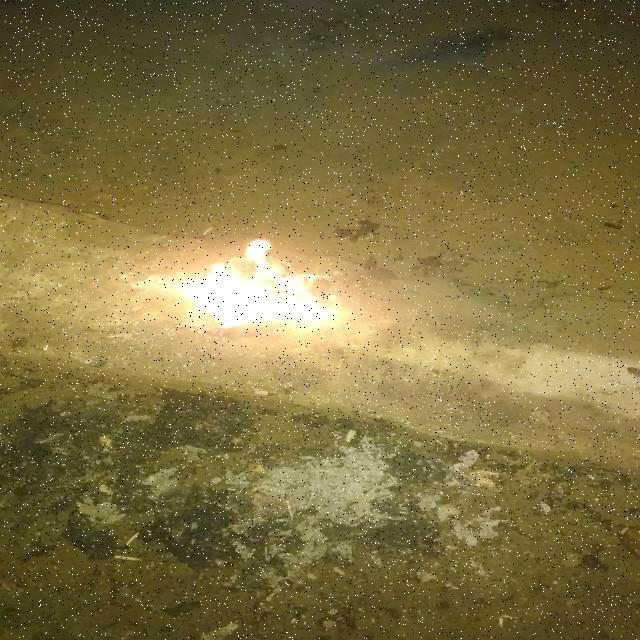fire: (129, 234, 348, 341)
